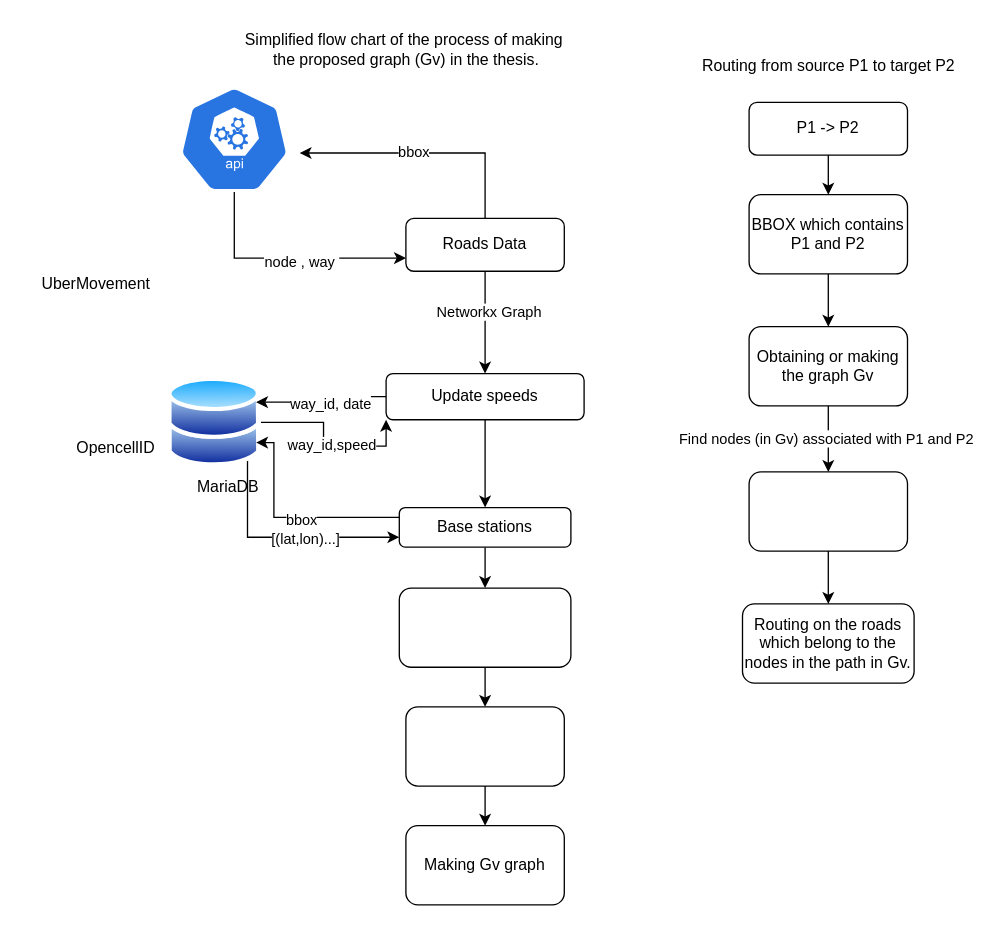
Some shapes in this 999 by 928 pixel diagram are drawn without their labels. Each missing label, with the centre of its shape:
Assigns road sections to each base station: [484,746]
Model service area: Voronoi Teselations: [484,627]
OverPass: [233,138]
Routing on the Gv graph: [828,511]
